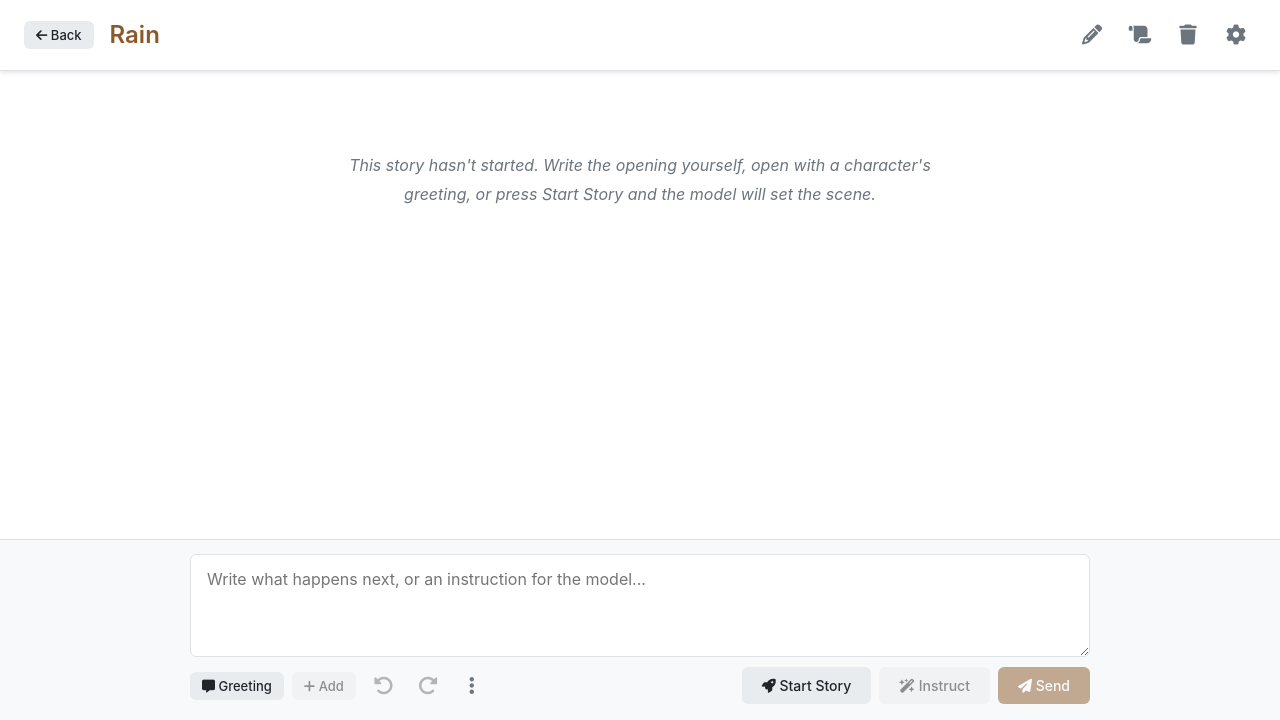
Test: StoryEditor in Enhanced Story Mode › keeps a rewritten greeting as one passage under one seam
Click the button "Greeting": click(237, 686) [190,672,284,700]
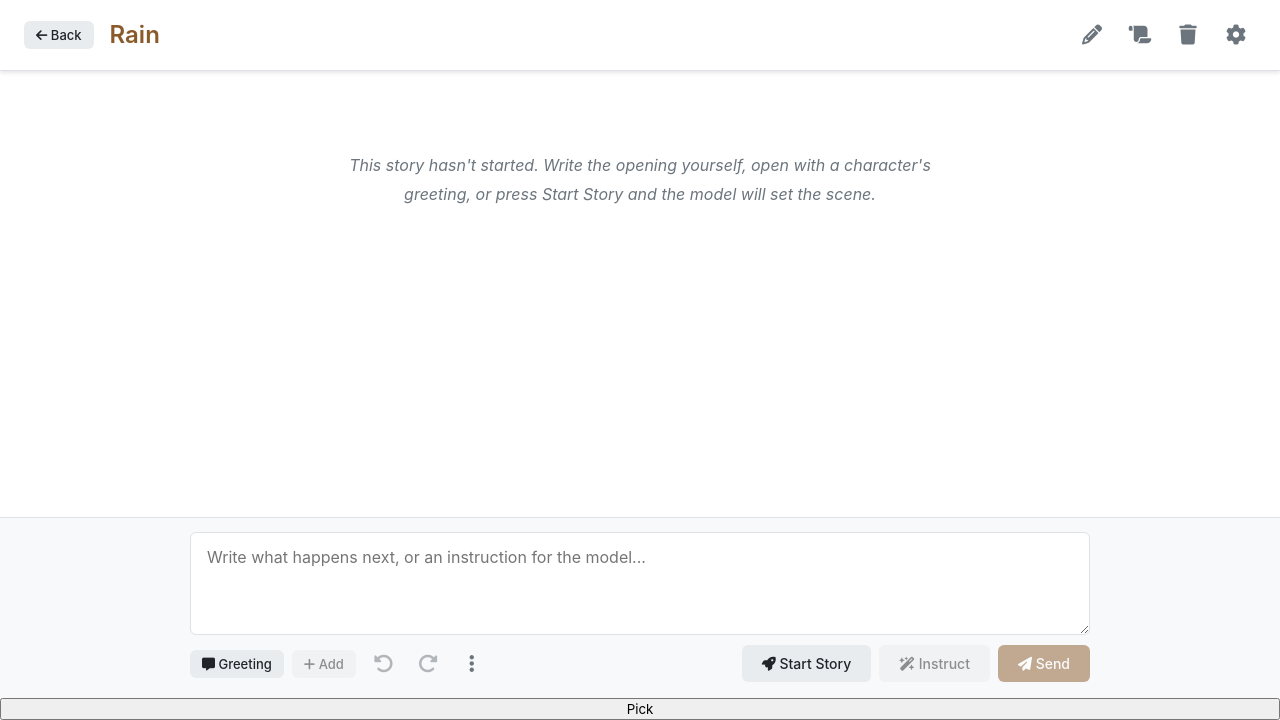
Click the button "Pick": click(640, 709) [0,698,1279,719]
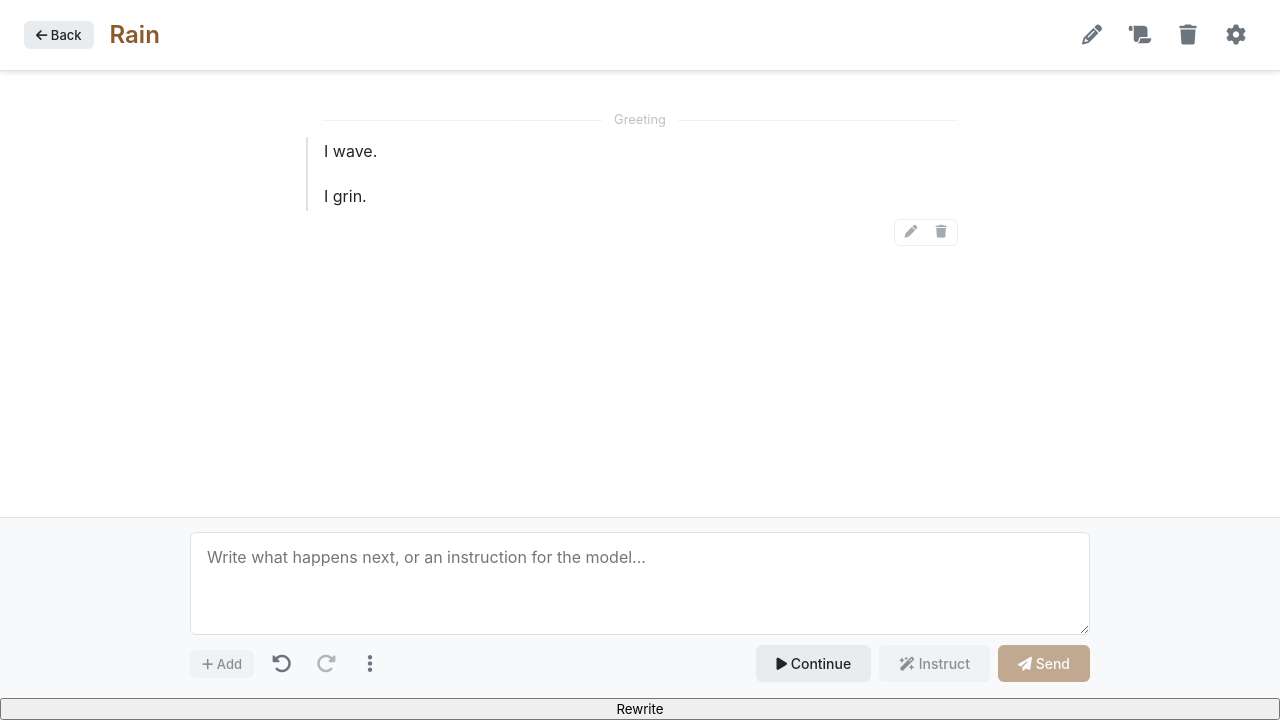
Click the button with class "accept-rewrite": click(640, 709) [0,698,1279,719]
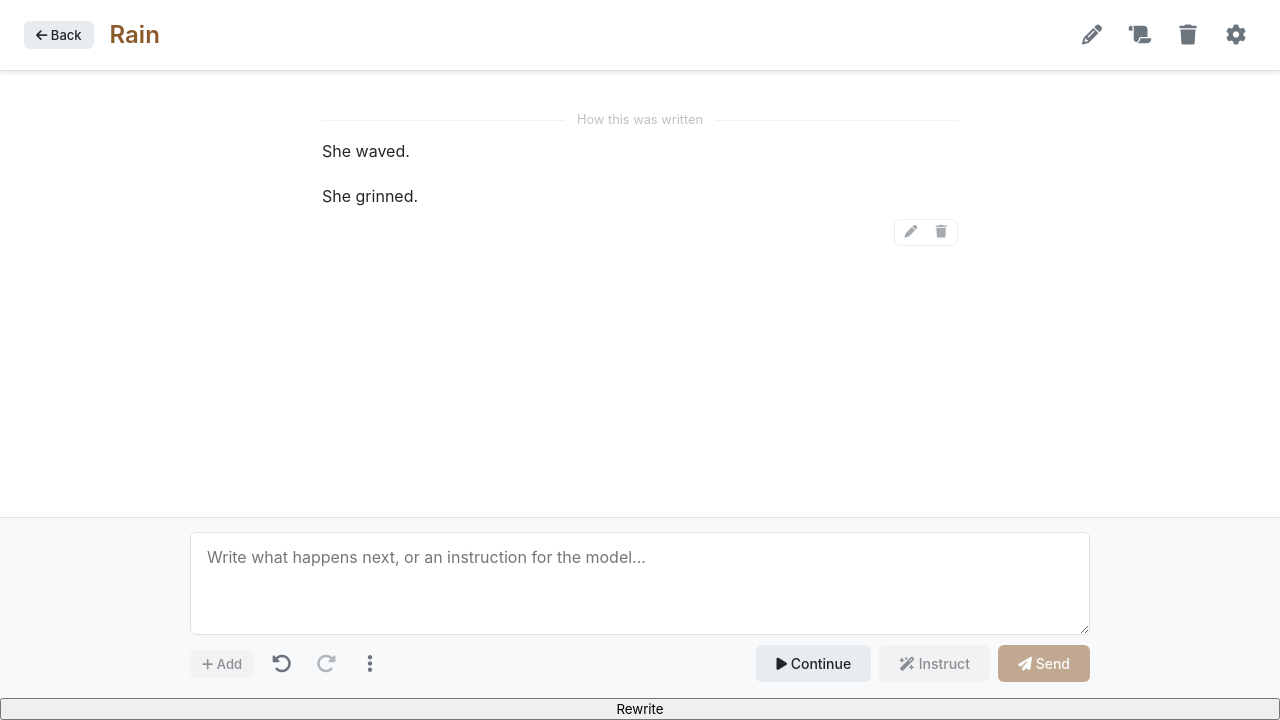
Now the number of elements with class "turn" is 1, box [322,137,958,246]
Now the element with class "turn" shows "She waved.", box [322,141,410,161]
Now the element with class "turn" shows "She grinned.", box [322,186,418,206]
